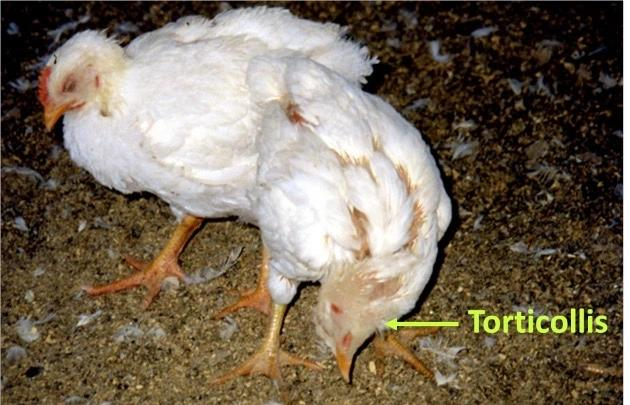AbNormal: (36, 3, 470, 390)
